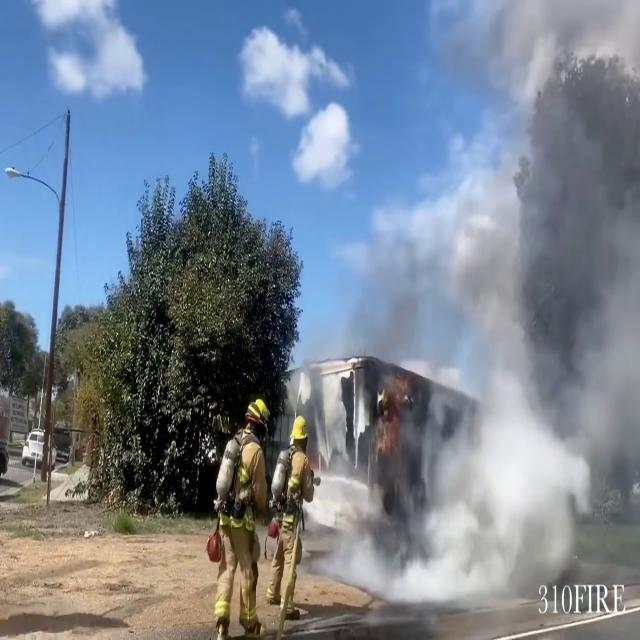Smoke: (357, 6, 640, 614)
